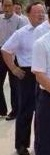boots: (6, 108, 17, 118), (0, 107, 10, 117)
ppe-suit: (0, 26, 25, 155)
